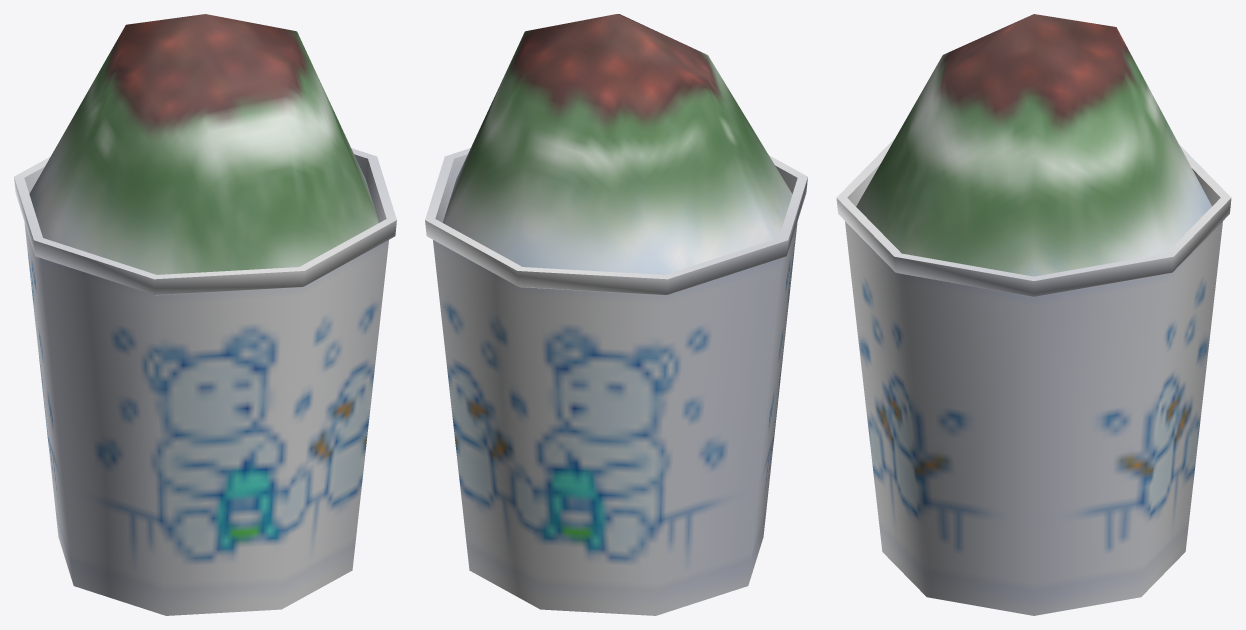
File: jsf_ShavedIce_04g.fbx
The picture shows the model from 3 angles, left to right: view 1: azimuth 30°, elevation 25°; view 2: azimuth 150°, elevation 25°; view 3: azimuth 270°, elevation 25°; orthographic projection.
Parts seen in each view (by area): view 1: jsf_ShavedIce_04g; view 2: jsf_ShavedIce_04g; view 3: jsf_ShavedIce_04g.
Part boxes in pixels (x1=…): jsf_ShavedIce_04g: x1=14, y1=14, x2=396, y2=615; jsf_ShavedIce_04g: x1=425, y1=14, x2=807, y2=615; jsf_ShavedIce_04g: x1=836, y1=14, x2=1231, y2=615.
Size of the model in its own units: 9.3 by 13.97 by 9.3.
